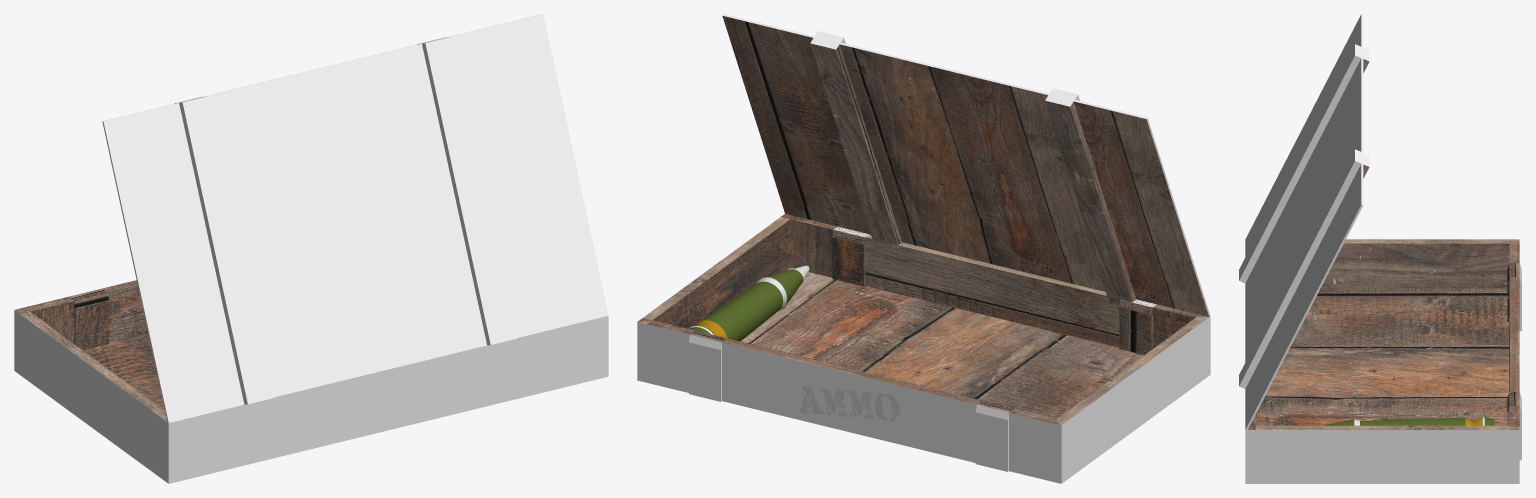
The model's file is Crate_Ammo.glb.
The picture shows the model from 3 angles, left to right: view 1: azimuth 30°, elevation 25°; view 2: azimuth 150°, elevation 25°; view 3: azimuth 270°, elevation 25°; orthographic projection. The views are drawn at different scales.
Visible parts, largest first — view 1: Plane.001, Plane; view 2: Plane, Plane.001, Cylinder, Text; view 3: Plane, Plane.001, Cylinder.
Part boxes in pixels (x1,y1,x2,y2): Plane.001: [102, 14, 608, 422]; Plane: [14, 280, 608, 483]; Plane: [637, 213, 1210, 483]; Plane.001: [722, 14, 1210, 317]; Cylinder: [688, 265, 811, 341]; Text: [798, 386, 900, 421]; Plane: [1245, 239, 1521, 483]; Plane.001: [1239, 14, 1369, 430]; Cylinder: [1324, 416, 1494, 425].
Size of the model in its own units: 6.55 by 4.52 by 4.11.
Materials: 5 (1 with a texture image).
